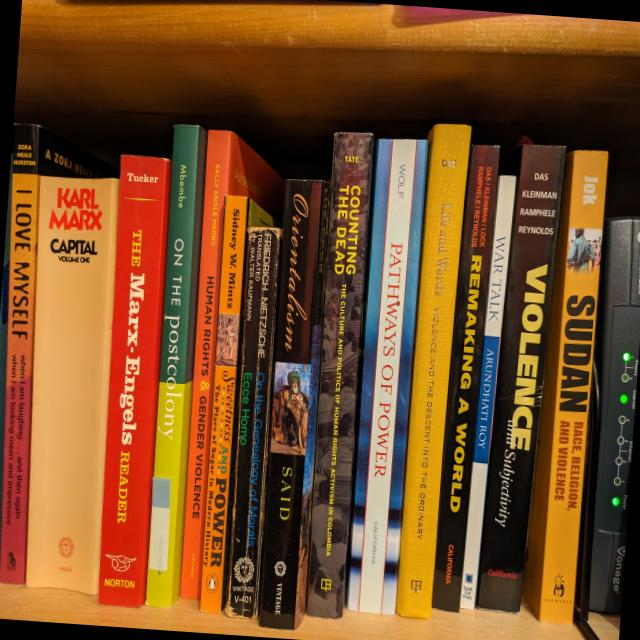book: (175, 128, 288, 603), (474, 143, 566, 614), (520, 148, 611, 624), (22, 175, 119, 593), (344, 137, 428, 614), (395, 122, 471, 619), (95, 156, 171, 606), (428, 143, 501, 611), (257, 177, 332, 629), (305, 131, 374, 619), (196, 195, 273, 614), (144, 124, 208, 607), (457, 173, 517, 610), (223, 225, 281, 618), (0, 165, 40, 583)
